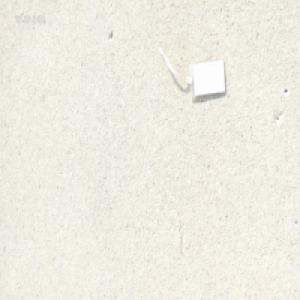LuggageTag: (155, 41, 228, 101)
